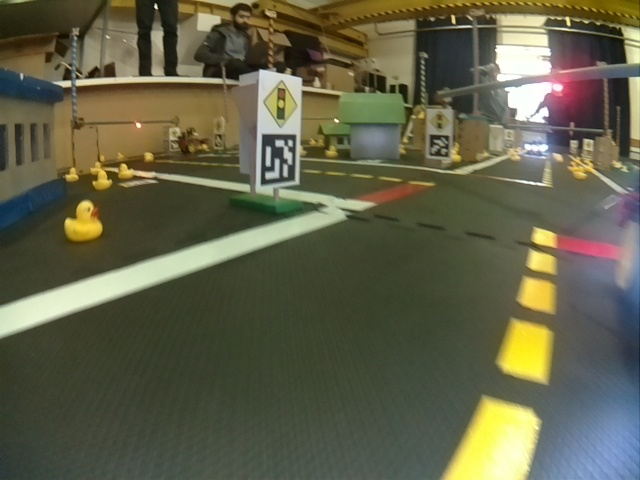Duckie: (67, 201, 101, 240), (93, 172, 110, 190), (117, 164, 132, 179), (64, 167, 76, 180), (325, 146, 337, 156), (91, 161, 100, 171), (144, 152, 153, 160)
QR code: (259, 134, 299, 184), (428, 135, 450, 157)
Signal sign: (263, 80, 299, 126), (429, 111, 451, 131)
Traffic light: (550, 72, 565, 96)
